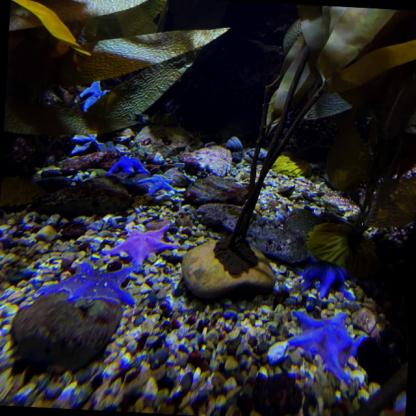starfish: (286, 308, 370, 384), (35, 258, 146, 307), (100, 220, 180, 266), (295, 255, 364, 306), (76, 78, 112, 115), (105, 154, 150, 178), (139, 171, 177, 197), (70, 131, 106, 158)
